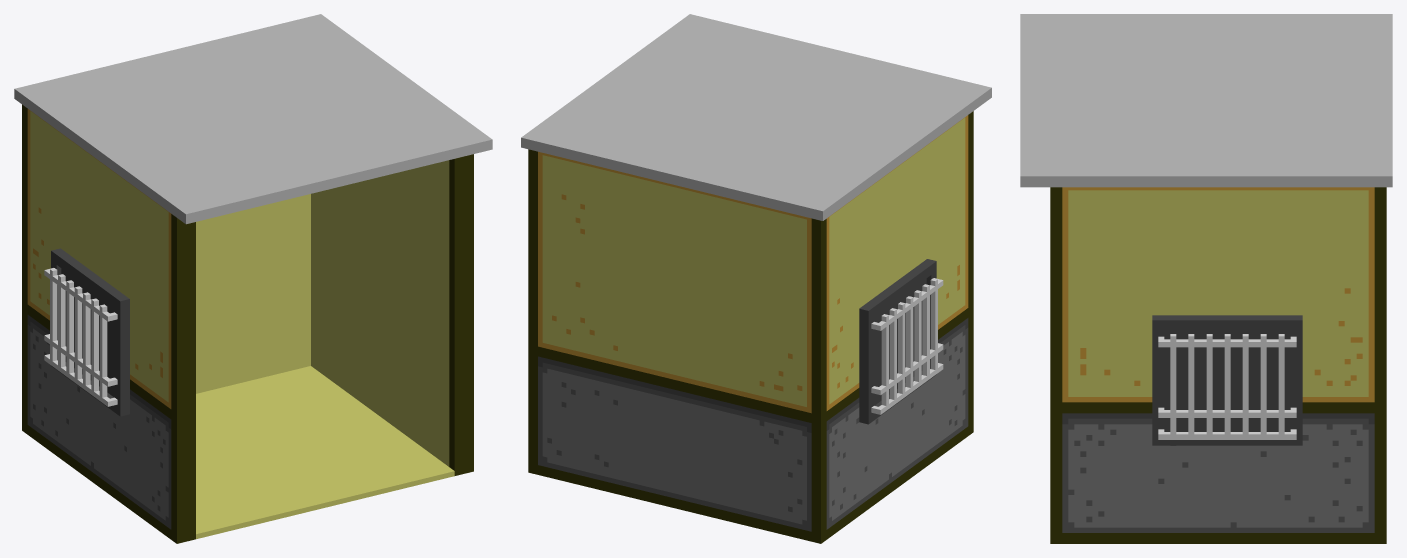
Rendered from typeSeventeen.glb.
The picture shows the model from 3 angles, left to right: view 1: azimuth 30°, elevation 25°; view 2: azimuth 150°, elevation 25°; view 3: azimuth 270°, elevation 25°; orthographic projection. The views are drawn at different scales.
Visible parts, largest first — view 1: ObjObject; view 2: ObjObject; view 3: ObjObject.
Part boxes in pixels (<box>): ObjObject: <box>14,14,492,543</box>; ObjObject: <box>521,14,991,543</box>; ObjObject: <box>1020,14,1392,543</box>.
Bounding box in the file's own units: 7 × 6.8 × 6.2.
Materials: 2 (1 with a texture image).
